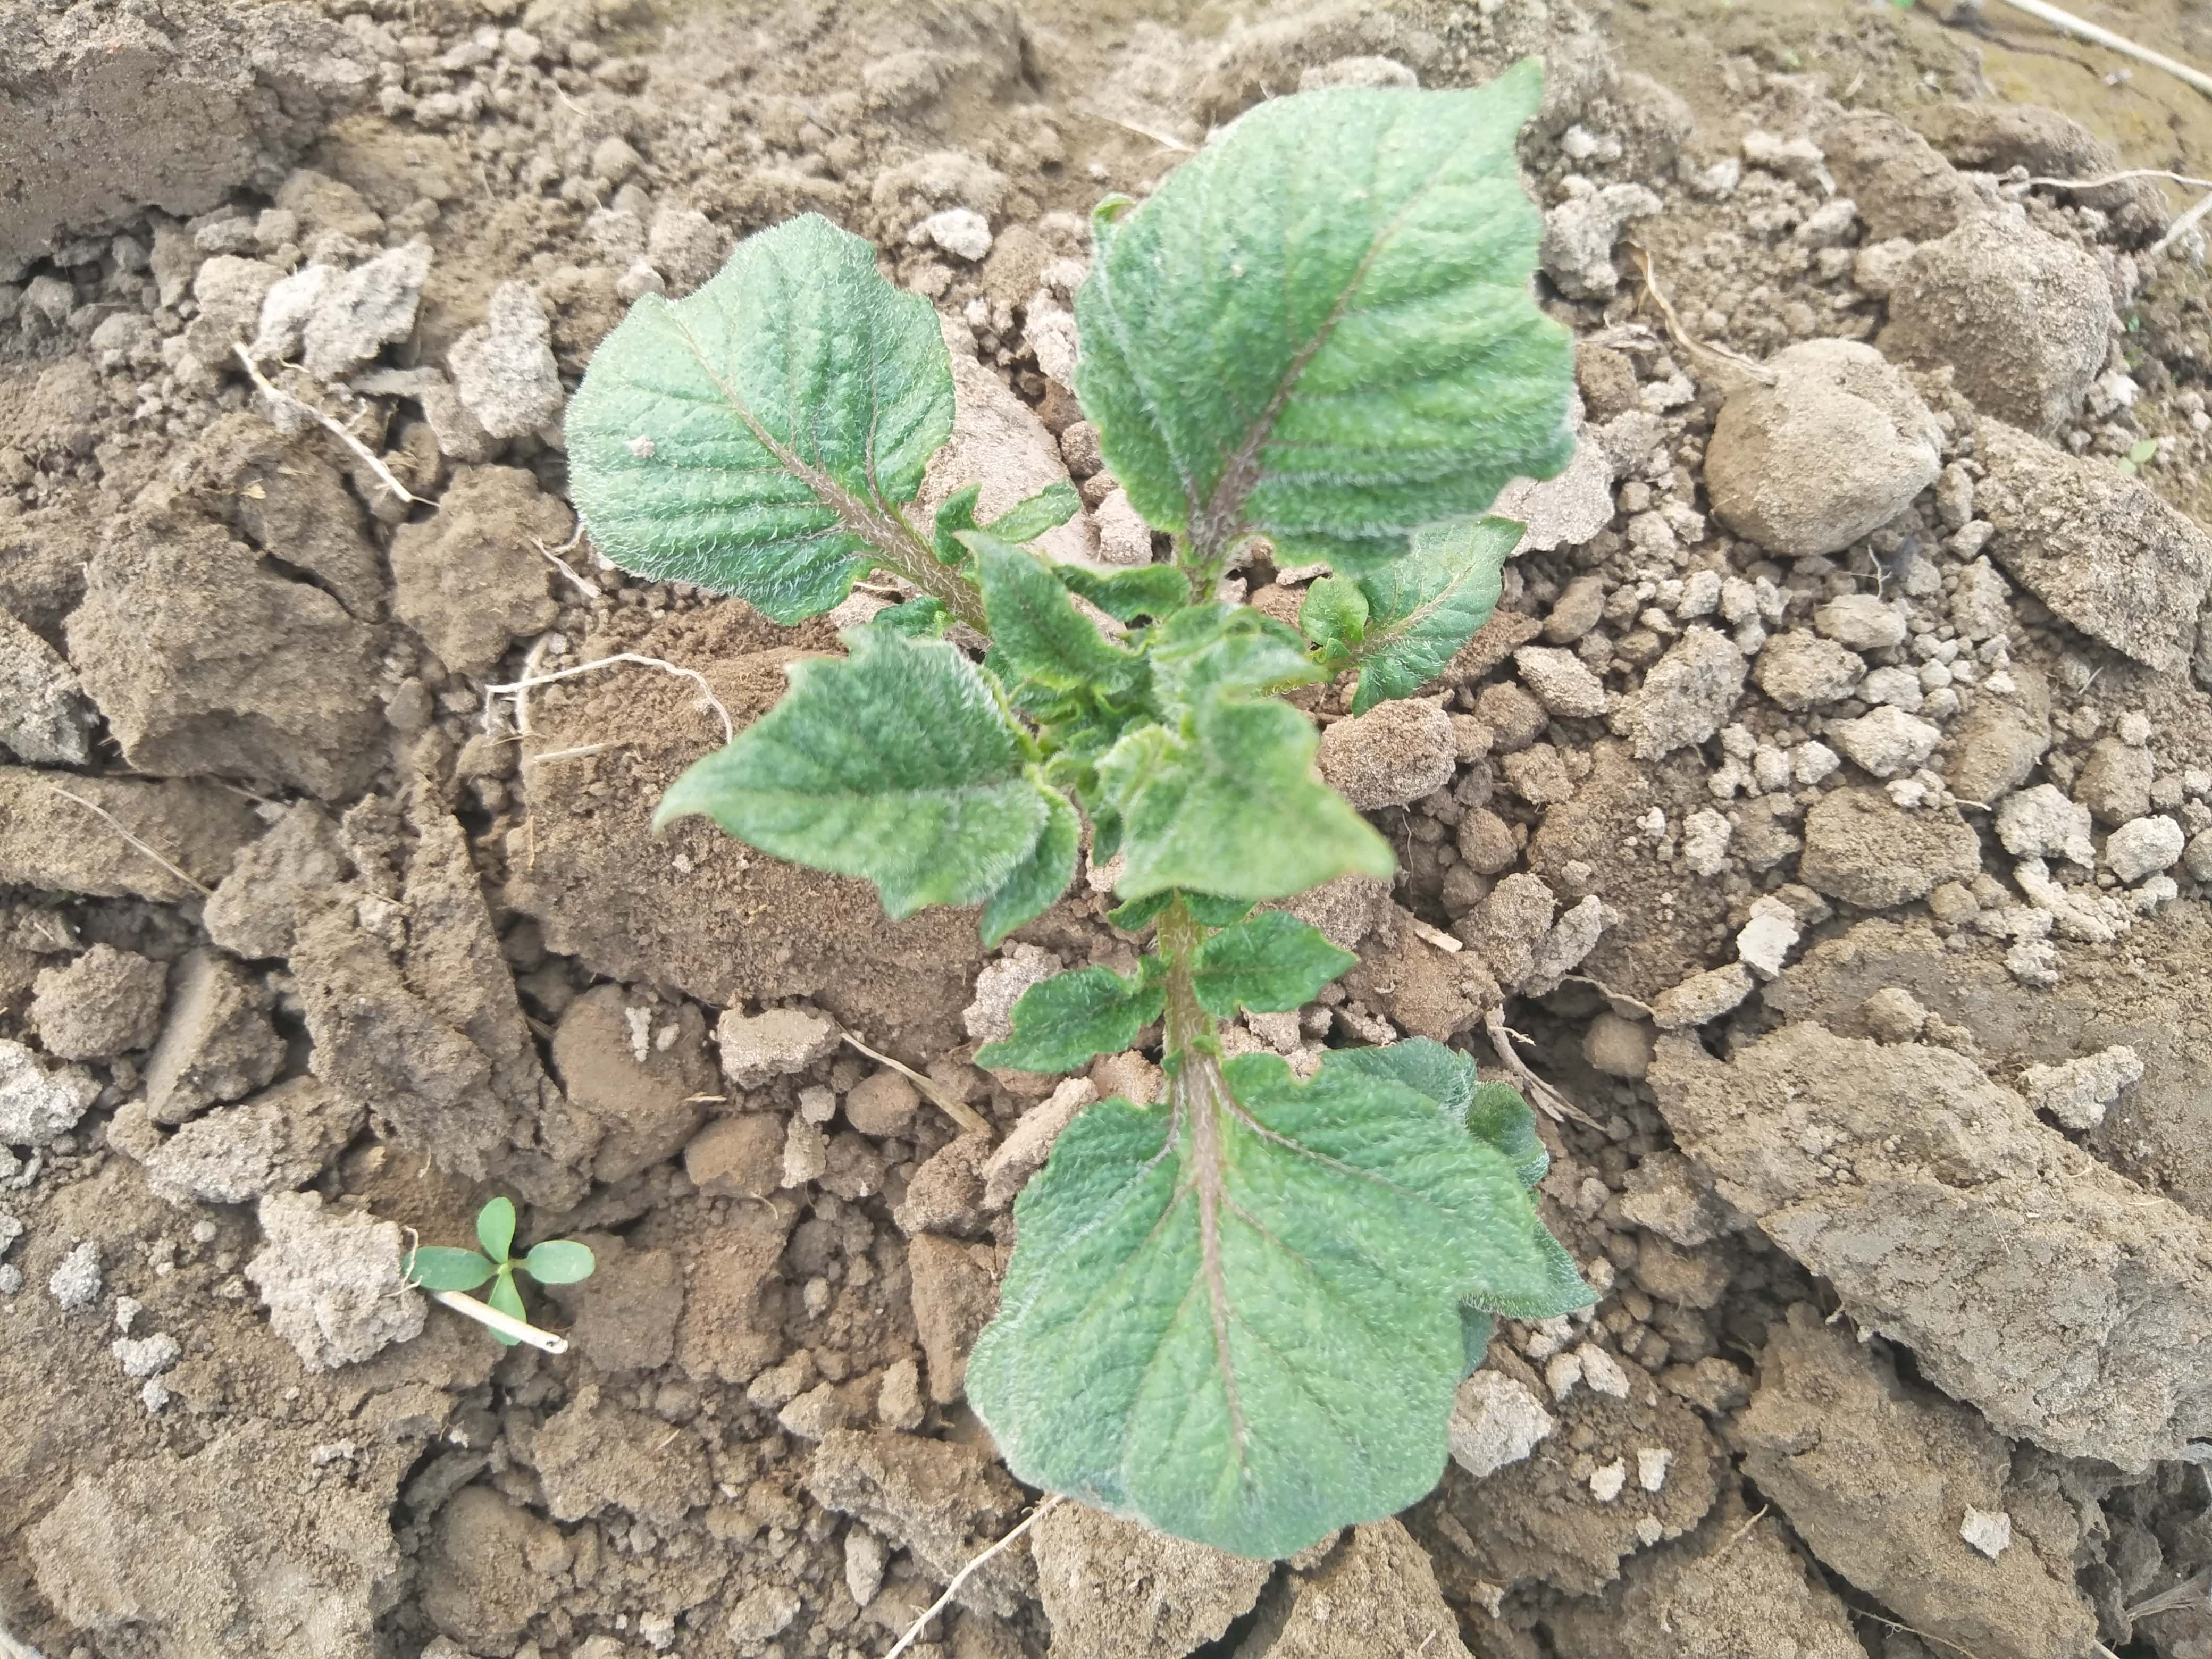daun: (1050, 1077, 1548, 1560), (1083, 63, 1555, 528), (568, 211, 941, 601), (679, 657, 1047, 899), (1109, 720, 1383, 899), (1357, 516, 1526, 688), (977, 525, 1146, 694), (977, 978, 1150, 1066), (1195, 922, 1350, 1009), (1158, 641, 1318, 704)
